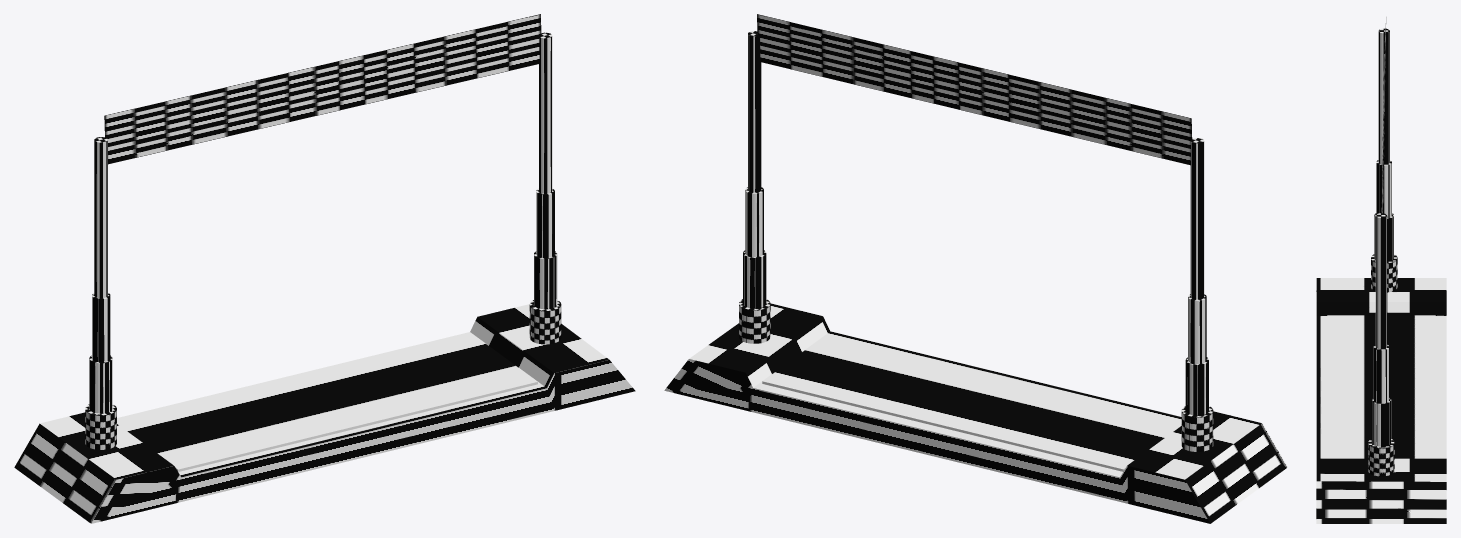
Rendered from Finish line .obj.
3 views of the same model, side by side, from view 1: azimuth 30°, elevation 25°; view 2: azimuth 150°, elevation 25°; view 3: azimuth 270°, elevation 25° (orthographic). The views are drawn at different scales.
Parts seen in each view (by area): view 1: Cube; view 2: Cube; view 3: Cube.
Boxes of the visible parts, x1,y1,x2,y2 form: Cube: (14,14,635,523); Cube: (664,14,1287,523); Cube: (1316,17,1446,523).
Size of the model in its own units: 7.25 by 4.64 by 1.78.
1 material, 1 textured.
